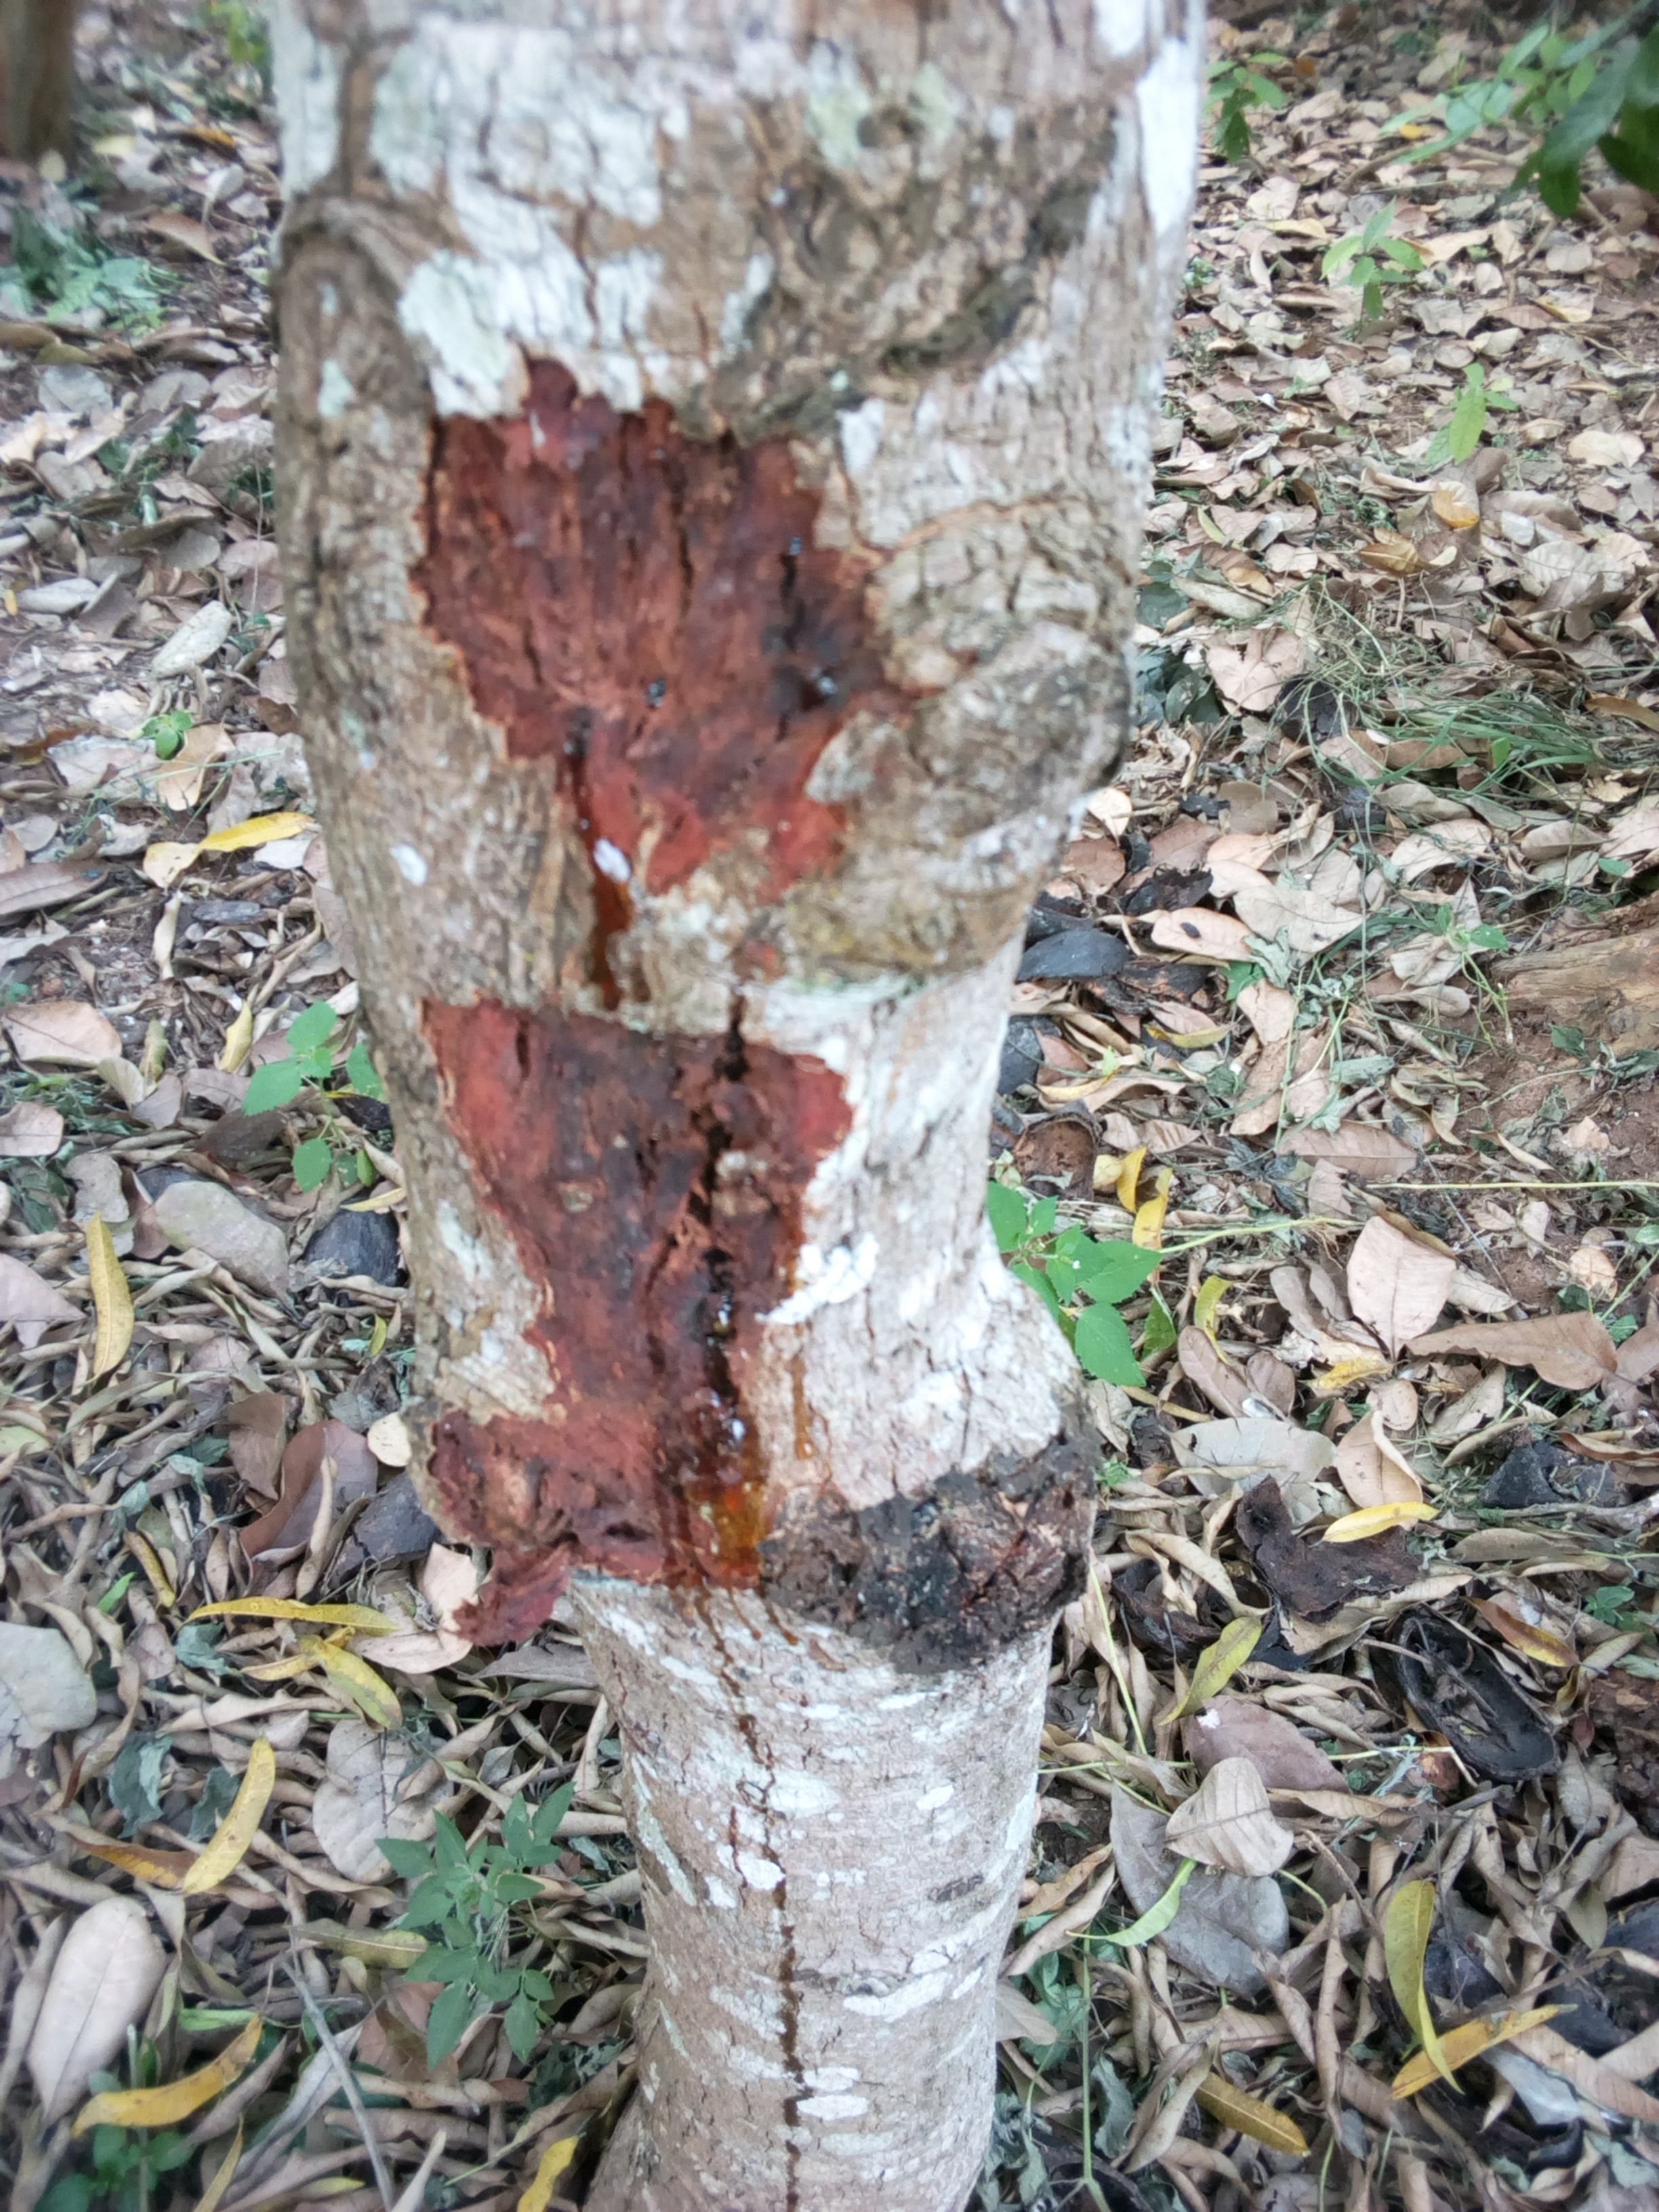ploceadorus ferrugineus: (331, 941, 983, 1730), (399, 286, 955, 984)
